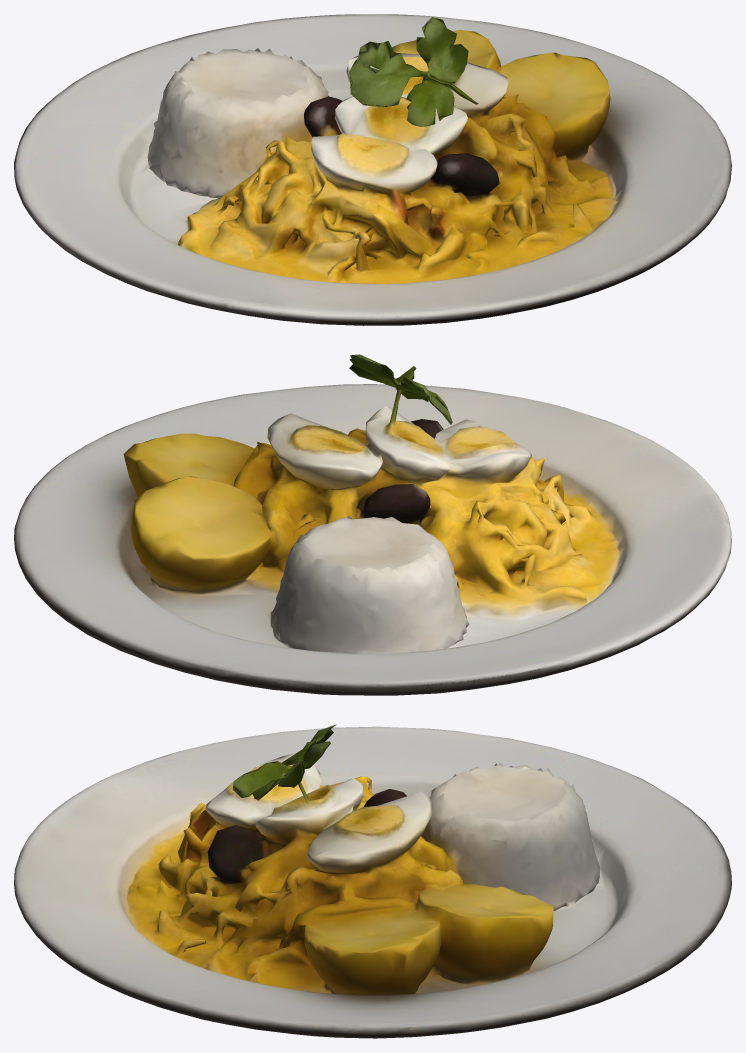
Rendered from aji_de_gallina.glb.
The picture shows the model from 3 angles, top to bottom: view 1: azimuth 30°, elevation 25°; view 2: azimuth 150°, elevation 25°; view 3: azimuth 270°, elevation 25°; orthographic projection.
Parts seen in each view (by area): view 1: tripo_node_8aa5778b-4e4a-40e6-bed6-d66102d433d2; view 2: tripo_node_8aa5778b-4e4a-40e6-bed6-d66102d433d2; view 3: tripo_node_8aa5778b-4e4a-40e6-bed6-d66102d433d2.
Boxes of the visible parts, x1,y1,x2,y2 form: tripo_node_8aa5778b-4e4a-40e6-bed6-d66102d433d2: (14,14,731,325); tripo_node_8aa5778b-4e4a-40e6-bed6-d66102d433d2: (14,354,731,695); tripo_node_8aa5778b-4e4a-40e6-bed6-d66102d433d2: (14,724,731,1038).
Size of the model in its own units: 0.9998 by 0.3042 by 1.
Materials: 1 (1 with a texture image).
